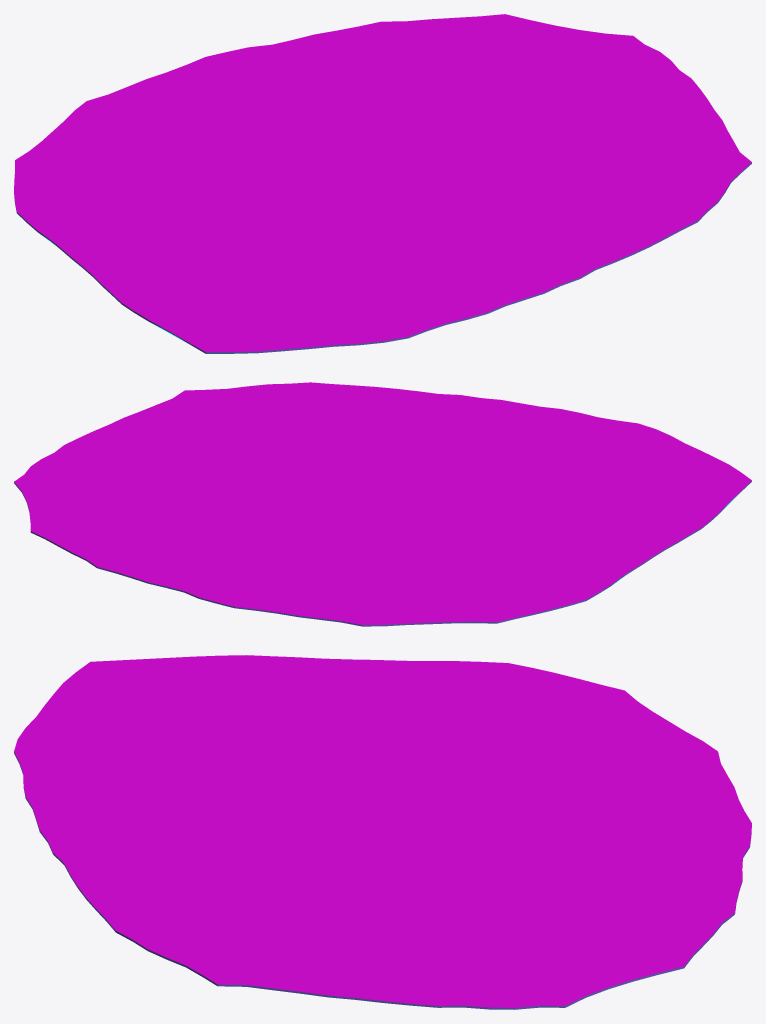
Rendered from water_mere.fbx.
3 views of the same model, one above another, from view 1: azimuth 30°, elevation 25°; view 2: azimuth 150°, elevation 25°; view 3: azimuth 270°, elevation 25° (orthographic). The views are drawn at different scales.
Visible parts, largest first — view 1: water_mere; view 2: water_mere; view 3: water_mere.
Part boxes in pixels (box(x1,y1,x2,y2)): water_mere: box(14, 14, 751, 353); water_mere: box(14, 382, 751, 626); water_mere: box(14, 655, 751, 1009).
Bounding box in the file's own units: 197 × 0.5 × 174.
